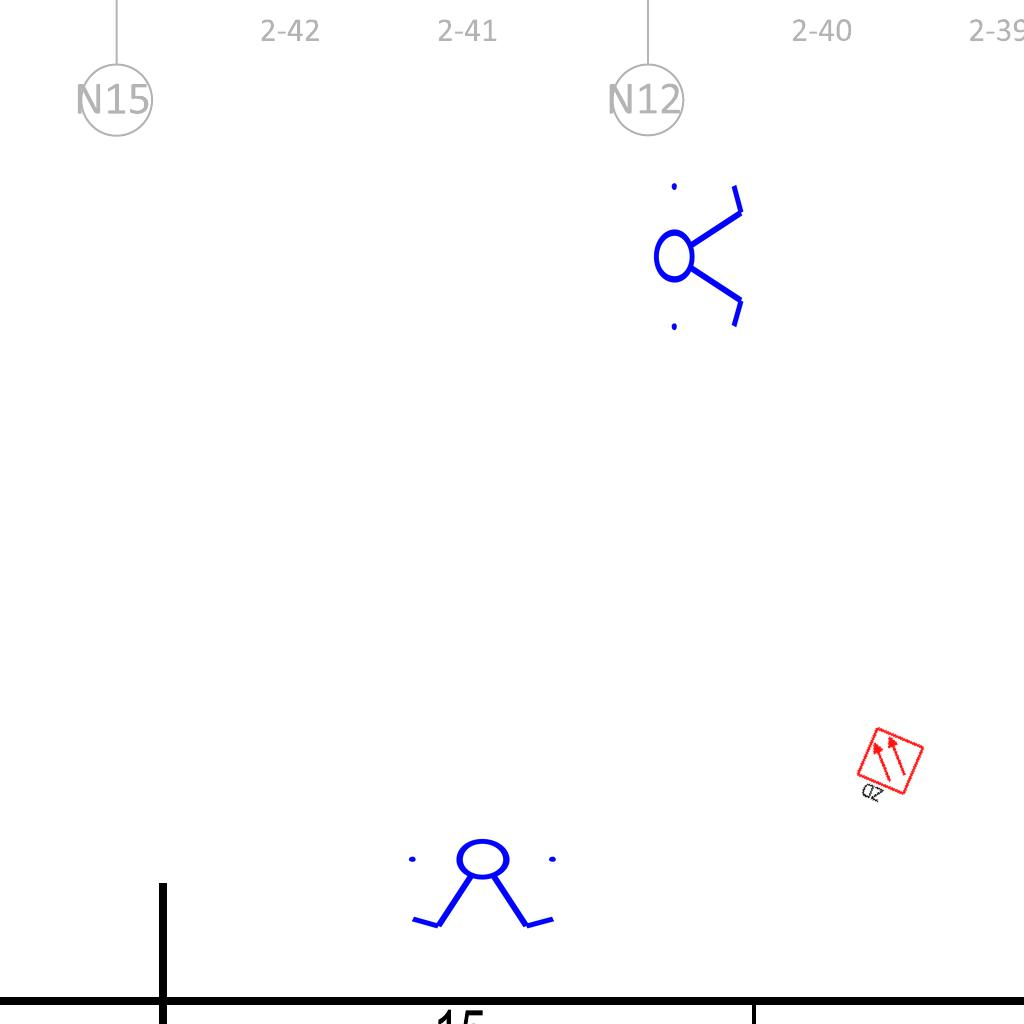Serienschalter: (652, 171, 748, 339), (400, 837, 568, 933)
ZD_Melder_in_Zwischendecke_mit_Revisionsoeffnung_mind_40_x_40_cm: (846, 724, 929, 816)
